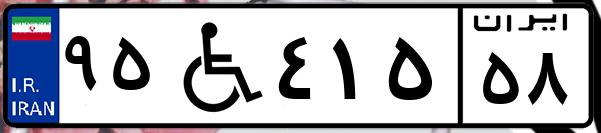1: (330, 28, 385, 110)
4: (270, 28, 330, 110)
5: (385, 28, 445, 110), (475, 38, 525, 113), (110, 28, 158, 98)
8: (525, 38, 570, 115)
9: (57, 26, 110, 100)
ژ (معلولین و جانبازان): (158, 12, 270, 120)
